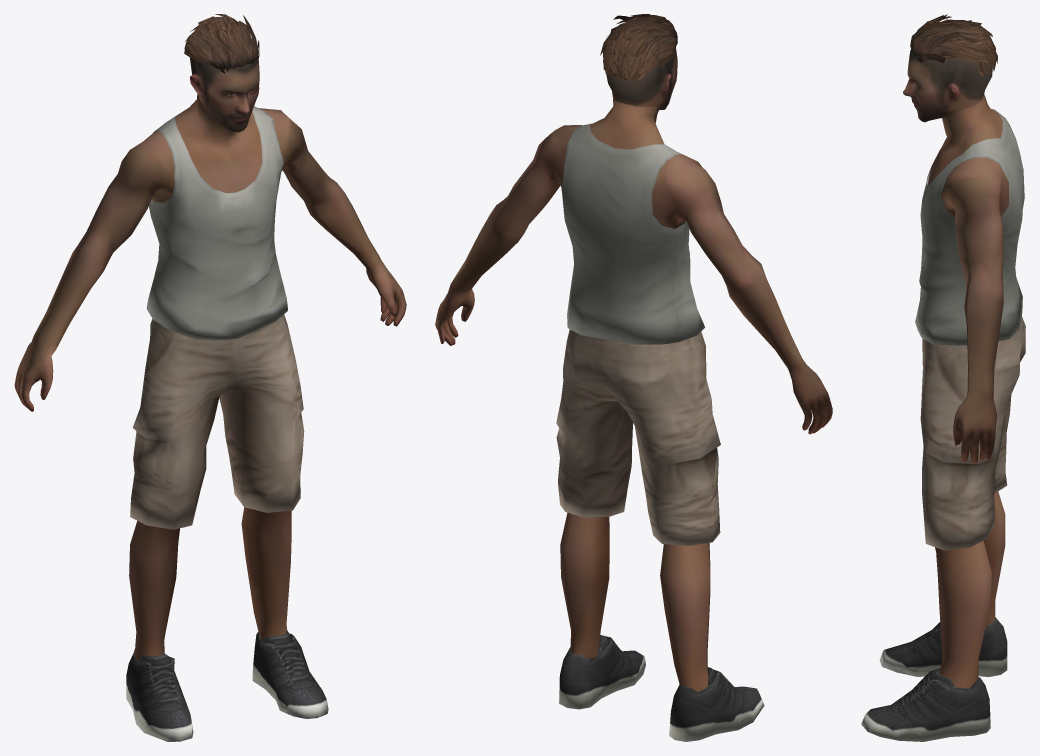
File: adamFF.FBX
3 views of the same model, side by side, from view 1: azimuth 30°, elevation 25°; view 2: azimuth 150°, elevation 25°; view 3: azimuth 270°, elevation 25° (orthographic).
Parts seen in each view (by area): view 1: Mesh_0058.rip; view 2: Mesh_0058.rip; view 3: Mesh_0058.rip.
Boxes of the visible parts, <box> form: Mesh_0058.rip: <box>14,14,406,741</box>; Mesh_0058.rip: <box>435,14,832,741</box>; Mesh_0058.rip: <box>861,14,1025,741</box>.
Bounding box in the file's own units: 2.86 × 4.84 × 1.06.
